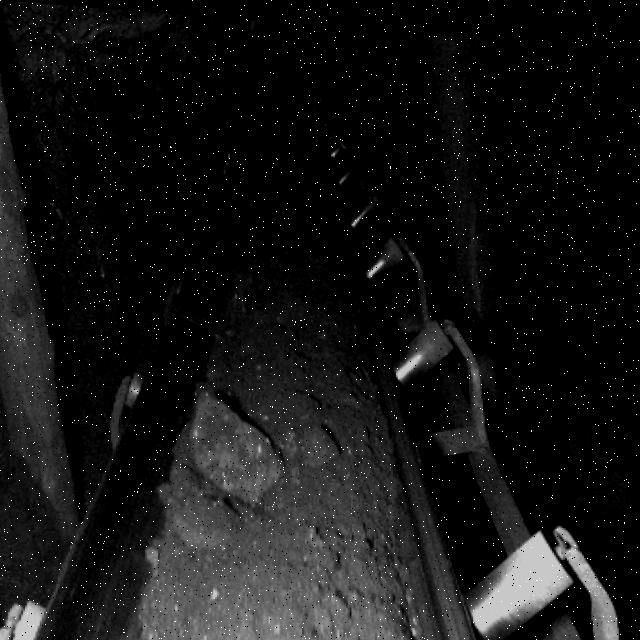large_sized_coal: (195, 391, 281, 502), (164, 466, 240, 547), (287, 423, 340, 464)
